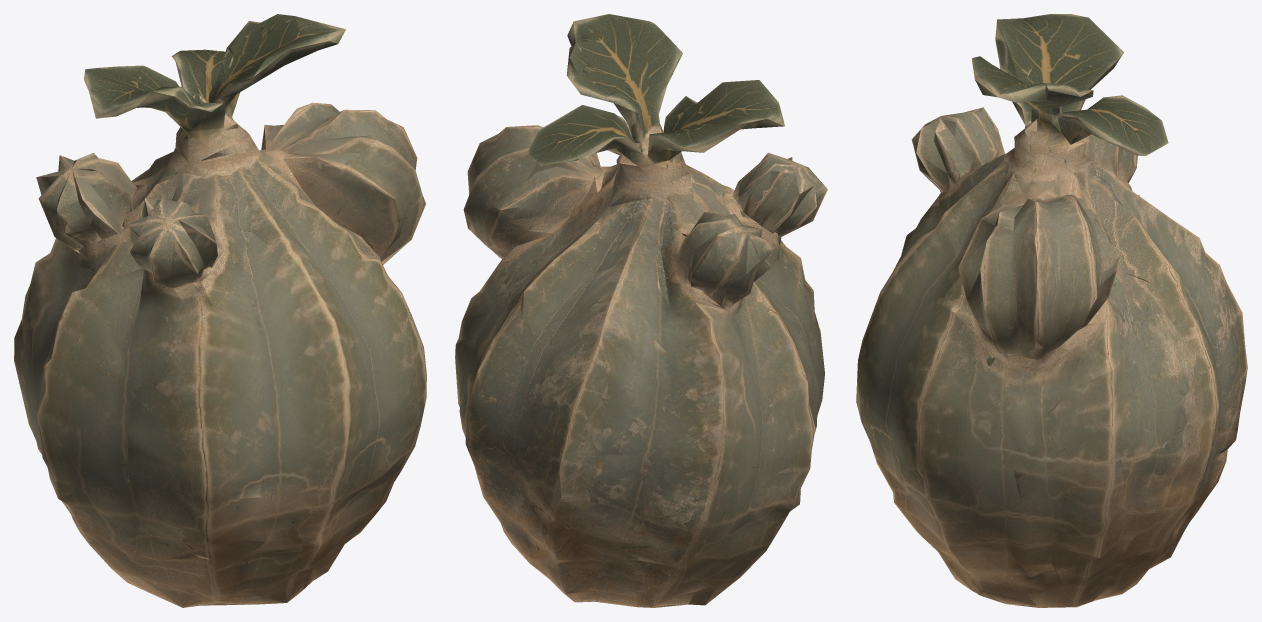
File: de_ribbed_storageplant.glb
3 views of the same model, side by side, from view 1: azimuth 30°, elevation 25°; view 2: azimuth 150°, elevation 25°; view 3: azimuth 270°, elevation 25° (orthographic). The views are drawn at different scales.
Parts seen in each view (by area): view 1: mesh; view 2: mesh; view 3: mesh.
Boxes of the visible parts, left/top/right/bottom form: mesh: left=14, top=14, right=426, bottom=607; mesh: left=455, top=14, right=827, bottom=607; mesh: left=856, top=14, right=1247, bottom=607.
Size of the model in its own units: 1.35 by 1.9 by 1.27.
Materials: 1 (1 with a texture image).
